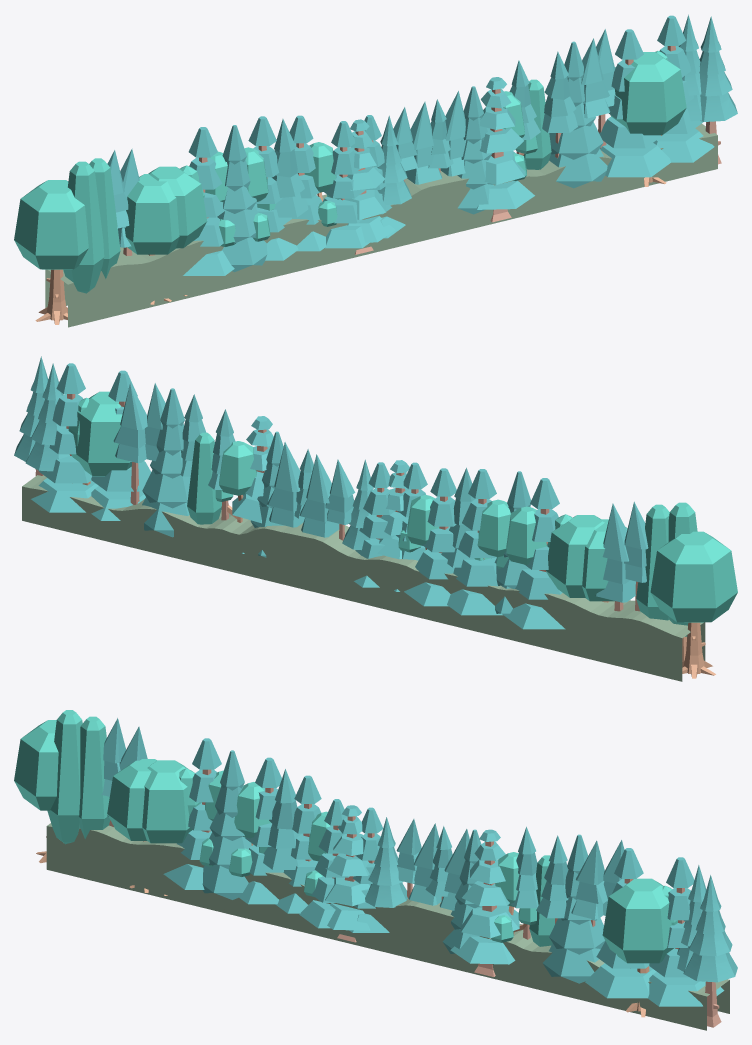
Rendered from backdrop_forest_mid.glb.
3 renders of one model, top to bottom at view 1: azimuth 30°, elevation 25°; view 2: azimuth 150°, elevation 25°; view 3: azimuth 330°, elevation 25°, orthographic.
Parts seen in each view (by area): view 1: ForestMidLand, ForestMid_leafsDark_003, ForestMid_leafsGreen_002, ForestMid_leafsDark_007, ForestMid_leafsDark_006, ForestMid_leafsGreen, ForestMid_leafsDark_001, ForestMid_leafsGreen_003, ForestMid_leafsDark, ForestMid_leafsDark_005, ForestMid_leafsDark_009, ForestMid_leafsDark_008 (+2 smaller); view 2: ForestMidLand, ForestMid_leafsDark_003, ForestMid_leafsGreen_002, ForestMid_leafsDark_007, ForestMid_leafsGreen_003, ForestMid_leafsDark_009, ForestMid_leafsDark, ForestMid_leafsGreen, ForestMid_leafsDark_001, ForestMid_leafsDark_006, ForestMid_leafsDark_005, ForestMid_leafsDark_008 (+1 smaller); view 3: ForestMidLand, ForestMid_leafsDark_003, ForestMid_leafsGreen_002, ForestMid_leafsDark_007, ForestMid_leafsDark_006, ForestMid_leafsGreen, ForestMid_leafsDark_001, ForestMid_leafsGreen_003, ForestMid_leafsDark, ForestMid_leafsDark_005, ForestMid_leafsDark_009, ForestMid_leafsDark_008 (+1 smaller).
Part boxes in pixels (<box>): ForestMidLand: <box>45,123,717,327</box>; ForestMid_leafsDark_003: <box>183,15,714,275</box>; ForestMid_leafsGreen_002: <box>14,52,686,269</box>; ForestMid_leafsDark_007: <box>217,41,607,272</box>; ForestMid_leafsDark_006: <box>344,77,534,242</box>; ForestMid_leafsGreen: <box>63,79,551,293</box>; ForestMid_leafsDark_001: <box>377,14,737,204</box>; ForestMid_leafsGreen_003: <box>205,91,537,246</box>; ForestMid_leafsDark: <box>107,29,615,228</box>; ForestMid_leafsDark_005: <box>428,51,577,168</box>; ForestMid_leafsDark_009: <box>118,91,466,247</box>; ForestMid_leafsDark_008: <box>272,119,308,217</box>; ForestMidLand: <box>22,475,705,681</box>; ForestMid_leafsDark_003: <box>31,363,565,629</box>; ForestMid_leafsGreen_002: <box>71,391,737,622</box>; ForestMid_leafsDark_007: <box>142,388,531,615</box>; ForestMid_leafsGreen_003: <box>215,441,546,568</box>; ForestMid_leafsDark_009: <box>267,442,635,602</box>; ForestMid_leafsDark: <box>113,383,648,582</box>; ForestMid_leafsGreen: <box>187,432,697,636</box>; ForestMid_leafsDark_001: <box>14,356,374,550</box>; ForestMid_leafsDark_006: <box>232,416,409,559</box>; ForestMid_leafsDark_005: <box>180,394,313,518</box>; ForestMid_leafsDark_008: <box>441,467,475,567</box>; ForestMidLand: <box>46,823,729,1030</box>; ForestMid_leafsDark_003: <box>163,738,724,1006</box>; ForestMid_leafsGreen_002: <box>14,720,673,963</box>; ForestMid_leafsDark_007: <box>202,750,605,983</box>; ForestMid_leafsDark_006: <box>325,805,519,964</box>; ForestMid_leafsGreen: <box>47,710,554,946</box>; ForestMid_leafsDark_001: <box>365,817,737,982</box>; ForestMid_leafsGreen_003: <box>199,770,536,942</box>; ForestMid_leafsDark: <box>101,718,624,919</box>; ForestMid_leafsDark_005: <box>425,826,568,918</box>; ForestMid_leafsDark_009: <box>107,726,469,910</box>; ForestMid_leafsDark_008: <box>263,769,305,869</box>.
Bounding box in the file's own units: 65.05 × 13.77 × 7.88.
